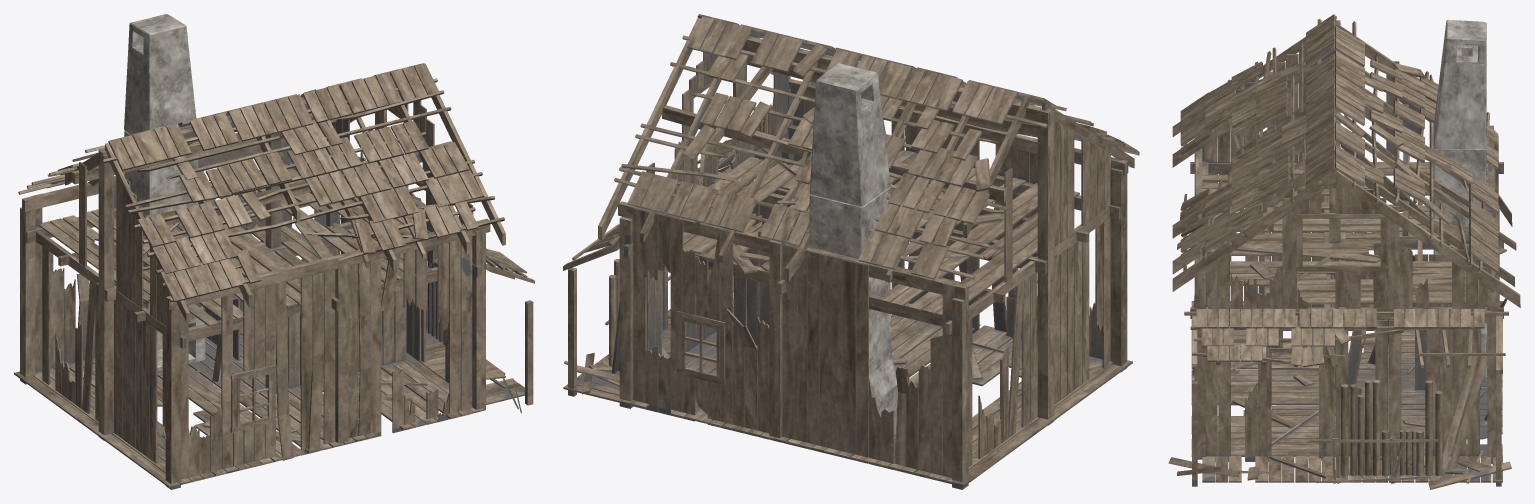
Rendered from house1.gltf.
The picture shows the model from 3 angles, left to right: view 1: azimuth 30°, elevation 25°; view 2: azimuth 150°, elevation 25°; view 3: azimuth 270°, elevation 25°; orthographic projection. The views are drawn at different scales.
Visible parts, largest first — view 1: Cube.054_Material.001_0, Cube.597_Material.001_0; view 2: Cube.054_Material.001_0, Cube.597_Material.001_0; view 3: Cube.054_Material.001_0, Cube.597_Material.001_0.
Boxes of the visible parts, x1=… form: Cube.054_Material.001_0: x1=14, y1=63, x2=534, y2=489; Cube.597_Material.001_0: x1=124, y1=14, x2=205, y2=371; Cube.054_Material.001_0: x1=563, y1=14, x2=1139, y2=489; Cube.597_Material.001_0: x1=809, y1=63, x2=897, y2=434; Cube.054_Material.001_0: x1=1168, y1=14, x2=1520, y2=489; Cube.597_Material.001_0: x1=1433, y1=19, x2=1486, y2=377.
Size of the model in its own units: 7.33 by 6.16 by 5.76.
